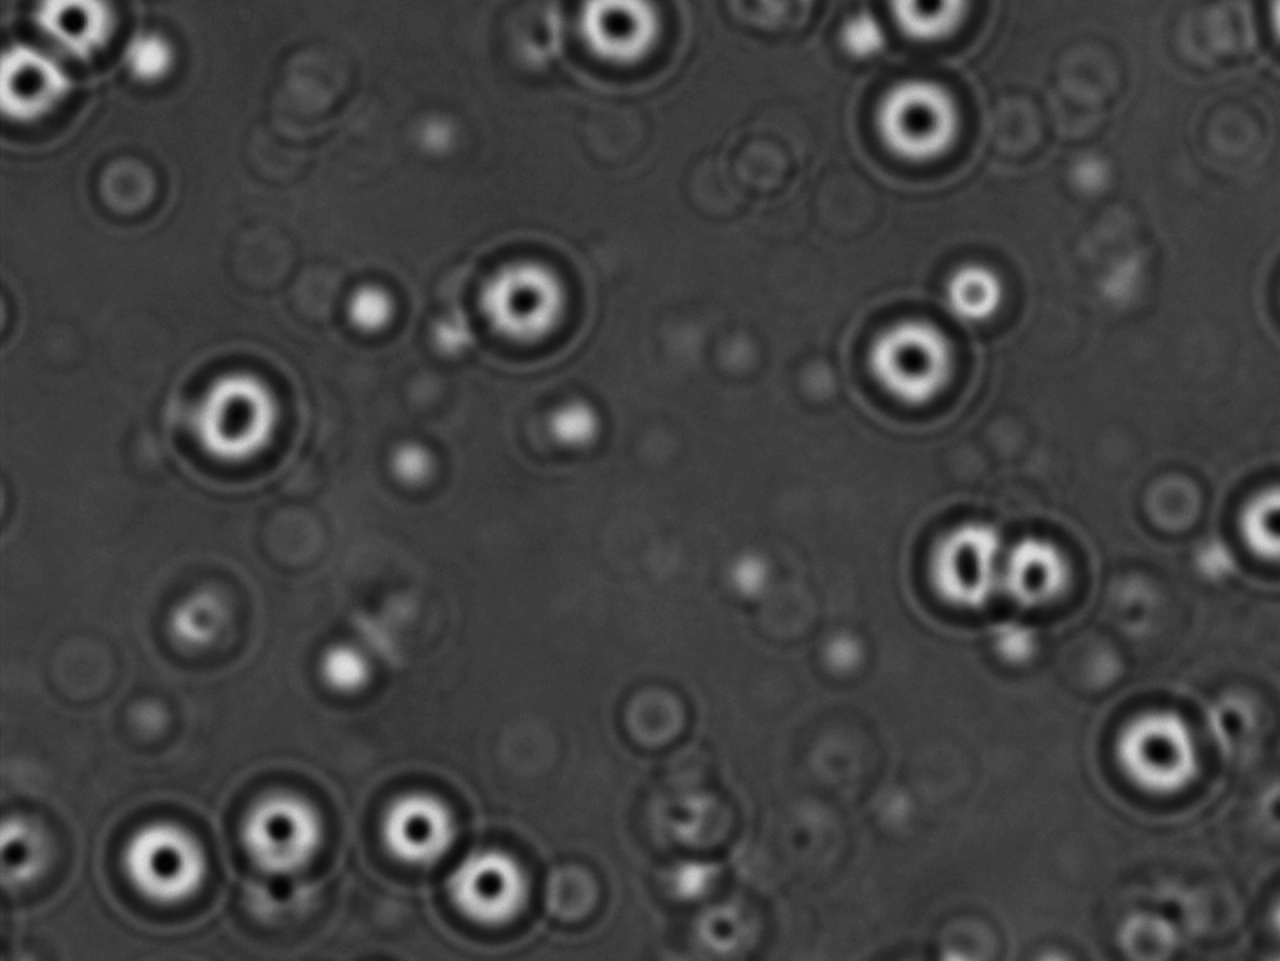depth:16: (159, 339, 305, 479), (840, 291, 976, 429), (90, 802, 226, 926), (1095, 691, 1221, 815), (460, 237, 585, 360), (853, 61, 980, 181), (901, 501, 1019, 630), (438, 829, 558, 951), (210, 770, 333, 889), (980, 511, 1094, 630), (360, 769, 472, 882), (1216, 462, 1280, 583)
